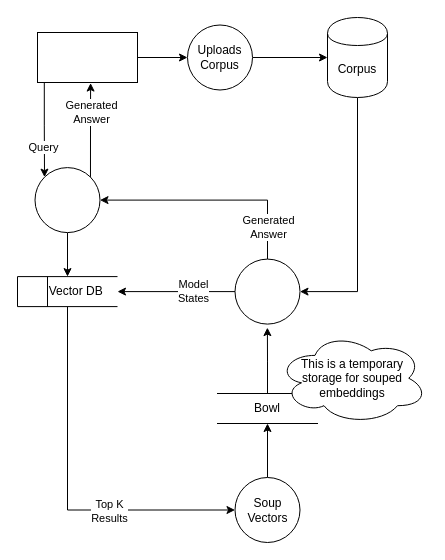
Image size: 445x560. Some labels were removed from this diagram. Here are the shapes that lost their labels. From the top down, the centre of each, then its label:
At (87,57): "User".
At (67,200): "RAG Interface".
At (267,291): "SSM".
